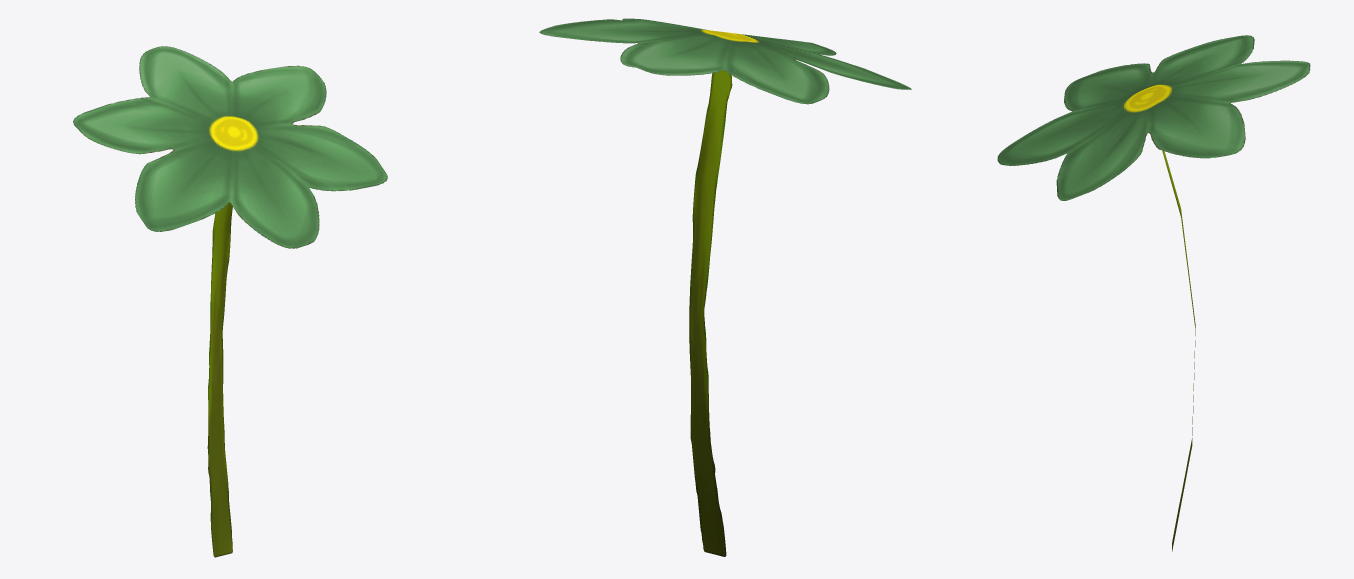
File: 11_Flor.fbx
The picture shows the model from 3 angles, left to right: view 1: azimuth 30°, elevation 25°; view 2: azimuth 150°, elevation 25°; view 3: azimuth 270°, elevation 25°; orthographic projection. The views are drawn at different scales.
Parts seen in each view (by area): view 1: Flor1; view 2: Flor1; view 3: Flor1.
Boxes of the visible parts, x1,y1,x2,y2 form: Flor1: [73, 46, 387, 557]; Flor1: [539, 18, 911, 556]; Flor1: [997, 35, 1310, 551].
Size of the model in its own units: 19.03 by 32.78 by 20.93.
